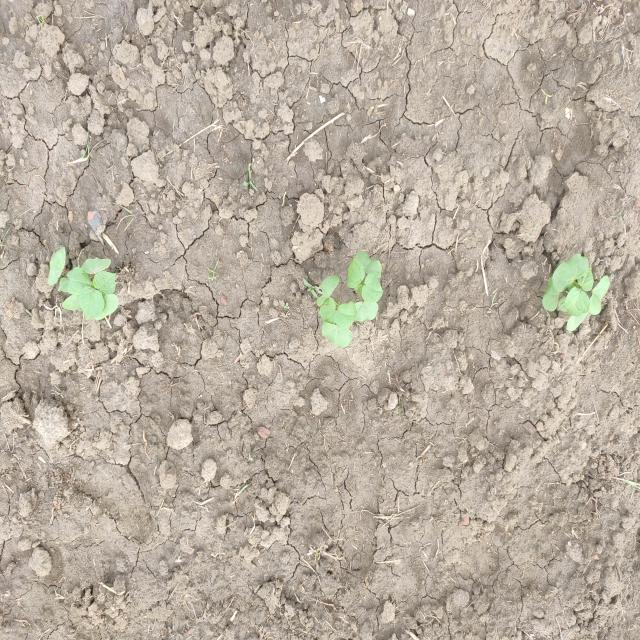seedling: (552, 253, 588, 292), (79, 286, 105, 321), (589, 275, 610, 316), (321, 321, 352, 347), (66, 267, 93, 295), (356, 251, 382, 278), (565, 287, 589, 316), (48, 247, 66, 285), (317, 275, 339, 306), (362, 273, 384, 303), (333, 301, 357, 328), (94, 294, 118, 320), (542, 276, 559, 312), (93, 271, 116, 296), (347, 257, 365, 288), (317, 297, 336, 324), (81, 257, 111, 274), (355, 301, 378, 321), (566, 311, 589, 331), (578, 266, 594, 291), (62, 295, 81, 311), (59, 277, 69, 293)
